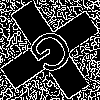G: (25, 25, 83, 85)
